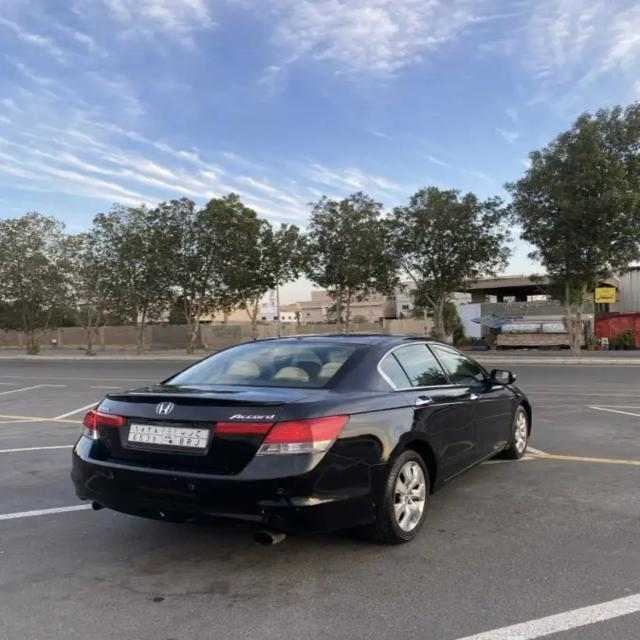license_plate: (128, 422, 212, 449)
